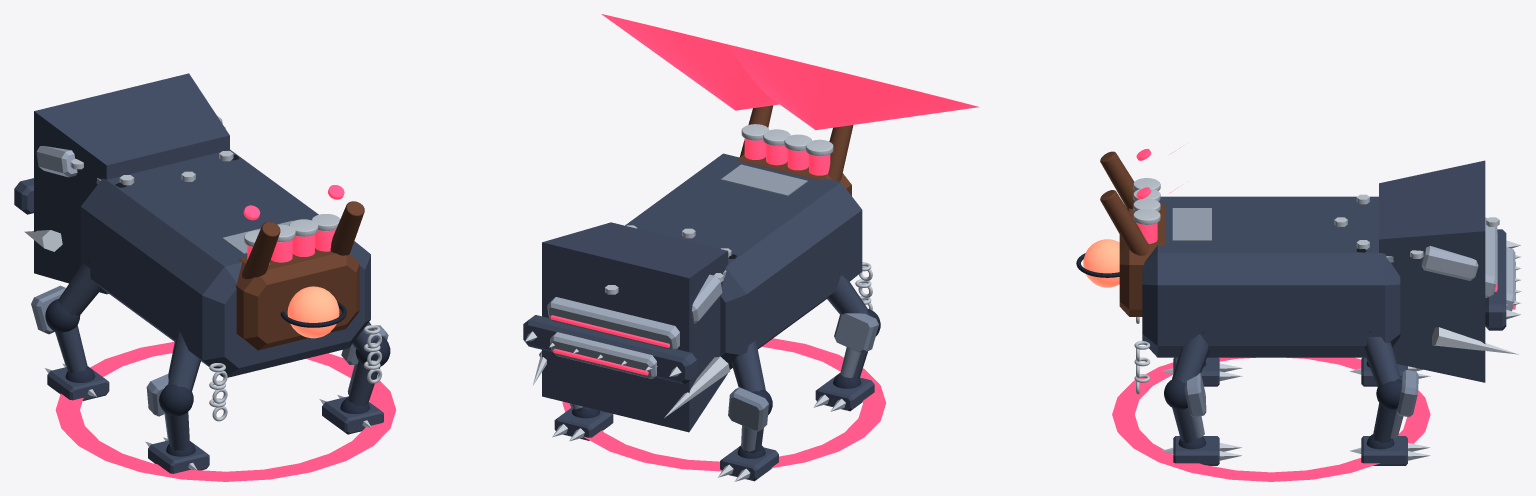
The model's file is enemy_ram_enraged.glb.
3 views of the same model, side by side, from view 1: azimuth 30°, elevation 25°; view 2: azimuth 150°, elevation 25°; view 3: azimuth 270°, elevation 25° (orthographic). The views are drawn at different scales.
Visible parts, largest first — view 1: ram_chassis, ram_wedge, ram_engine_block, ram_rage_ground, ram_fuel_cell, ram_leg_fl_thigh, ram_stack_l, ram_leg_fl_sole, ram_leg_br_sole, ram_leg_bl_thigh, ram_leg_bl_sole, ram_stack_r (+11 smaller); view 2: ram_chassis, ram_wedge, ram_rage_flare_l, ram_rage_flare_r, ram_rage_ground, ram_bar, ram_head_plate1, ram_head_plate2, ram_radiator, ram_leg_bl_knee_cap, ram_leg_fl_knee_cap, ram_leg_fl_thigh (+10 smaller); view 3: ram_chassis, ram_wedge, ram_rage_ground, ram_engine_block, ram_bar, ram_stack_r, ram_fuel_cell, ram_head_plate0, ram_radiator, ram_leg_fr_thigh, ram_leg_br_thigh, ram_leg_fr_sole (+13 smaller).
Boxes of the visible parts, left/top/right/bottom form: ram_chassis: left=80, top=149, right=370, bottom=377; ram_wedge: left=34, top=73, right=229, bottom=294; ram_engine_block: left=235, top=248, right=359, bottom=350; ram_rage_ground: left=55, top=341, right=395, bottom=481; ram_fuel_cell: left=287, top=286, right=339, bottom=338; ram_leg_fl_thigh: left=57, top=263, right=102, bottom=316; ram_stack_l: left=242, top=222, right=280, bottom=278; ram_leg_fl_sole: left=47, top=366, right=109, bottom=400; ram_leg_br_sole: left=322, top=396, right=383, bottom=434; ram_leg_bl_thigh: left=168, top=331, right=200, bottom=390; ram_leg_bl_sole: left=148, top=440, right=209, bottom=473; ram_stack_r: left=330, top=201, right=364, bottom=255; ram_chassis: left=625, top=153, right=862, bottom=369; ram_wedge: left=542, top=222, right=728, bottom=432; ram_rage_flare_l: left=726, top=44, right=979, bottom=129; ram_rage_flare_r: left=601, top=14, right=779, bottom=110; ram_rage_ground: left=562, top=338, right=886, bottom=471; ram_bar: left=523, top=315, right=697, bottom=384; ram_head_plate1: left=547, top=297, right=679, bottom=349; ram_head_plate2: left=550, top=332, right=656, bottom=378; ram_radiator: left=721, top=164, right=807, bottom=196; ram_leg_bl_knee_cap: left=834, top=313, right=878, bottom=353; ram_leg_fl_knee_cap: left=728, top=387, right=768, bottom=431; ram_leg_fl_thigh: left=731, top=340, right=765, bottom=391; ram_chassis: left=1142, top=196, right=1400, bottom=357; ram_wedge: left=1379, top=160, right=1485, bottom=382; ram_rage_ground: left=1112, top=357, right=1430, bottom=481; ram_engine_block: left=1119, top=204, right=1164, bottom=316; ram_bar: left=1485, top=229, right=1506, bottom=330; ram_stack_r: left=1100, top=190, right=1148, bottom=255; ram_fuel_cell: left=1083, top=239, right=1119, bottom=287; ram_head_plate0: left=1421, top=246, right=1478, bottom=280; ram_radiator: left=1172, top=208, right=1211, bottom=240; ram_leg_fr_thigh: left=1362, top=336, right=1400, bottom=386; ram_leg_br_thigh: left=1172, top=334, right=1209, bottom=382; ram_leg_fr_sole: left=1361, top=436, right=1407, bottom=465.
Size of the model in its own units: 2.6 by 2.62 by 3.38.
